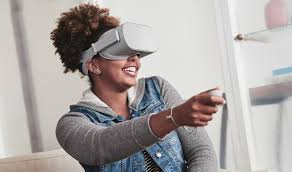oculus: (88, 22, 161, 63)
